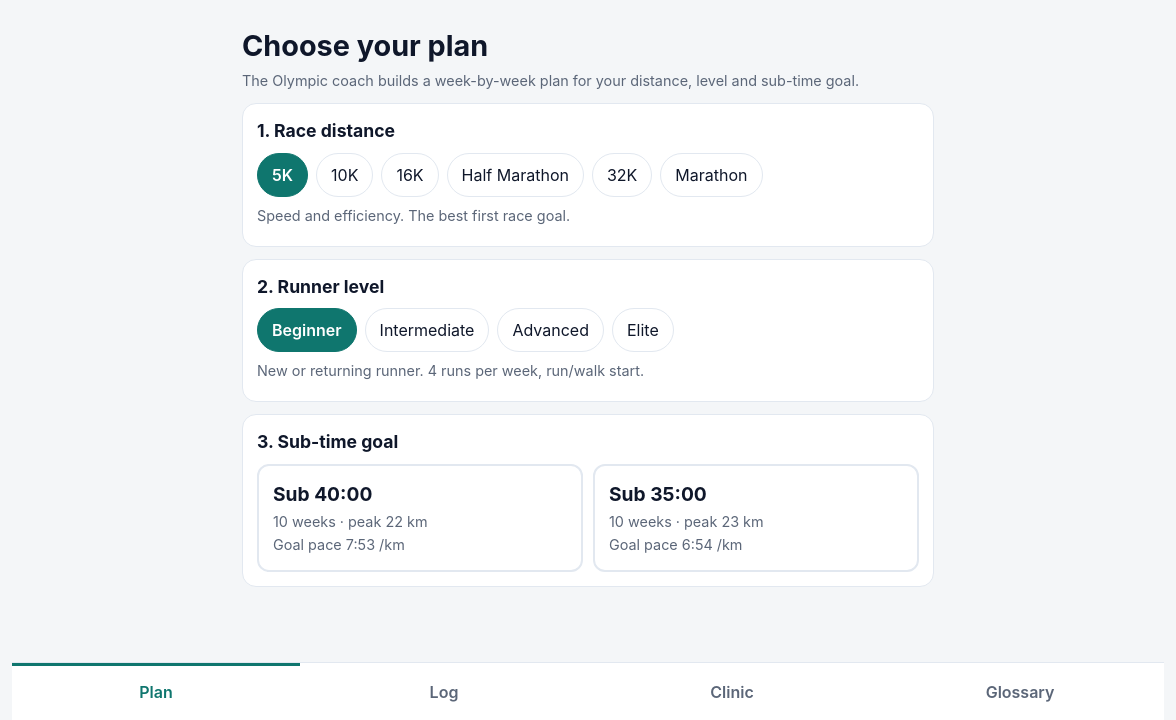
it: app flow › shows the plan picker first, then the plan overview
The width and height of the screenshot is (1176, 720).
Expected: the heading "Choose your plan" is shown, x1=242 y1=28 x2=488 y2=63
Click the radio button labelled "5K" at (282, 175), box x1=257 y1=153 x2=308 y2=197
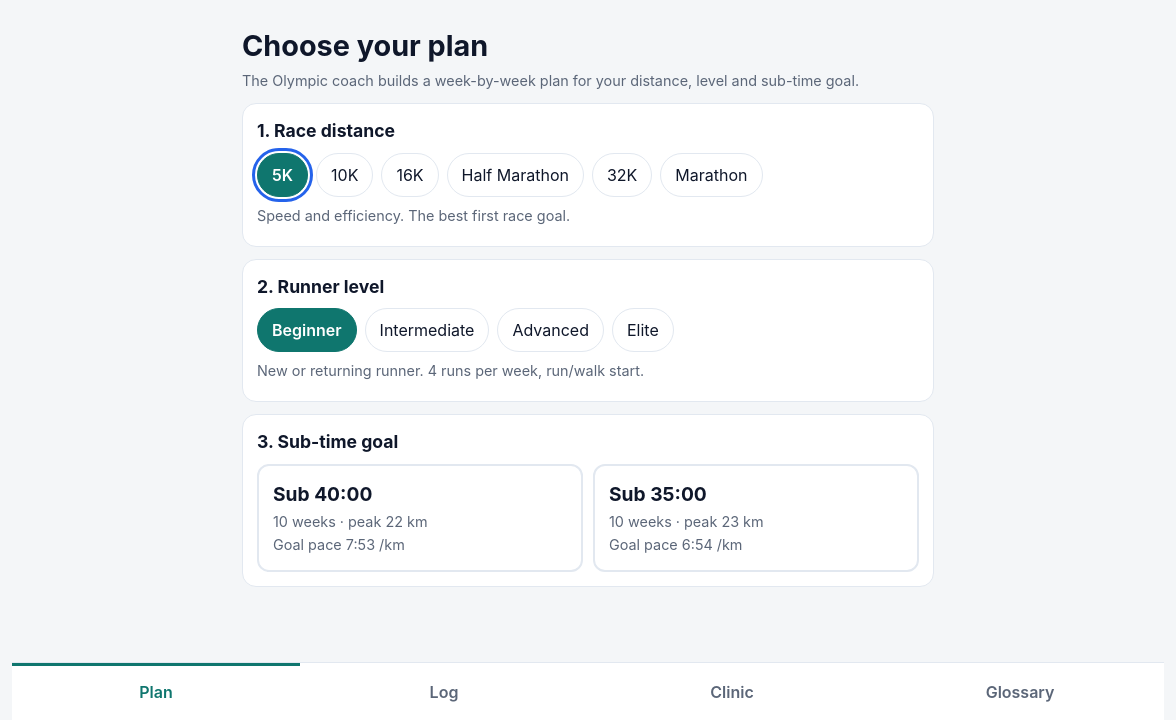
Click the radio button labelled "Beginner" at (307, 330), box x1=257 y1=308 x2=357 y2=352
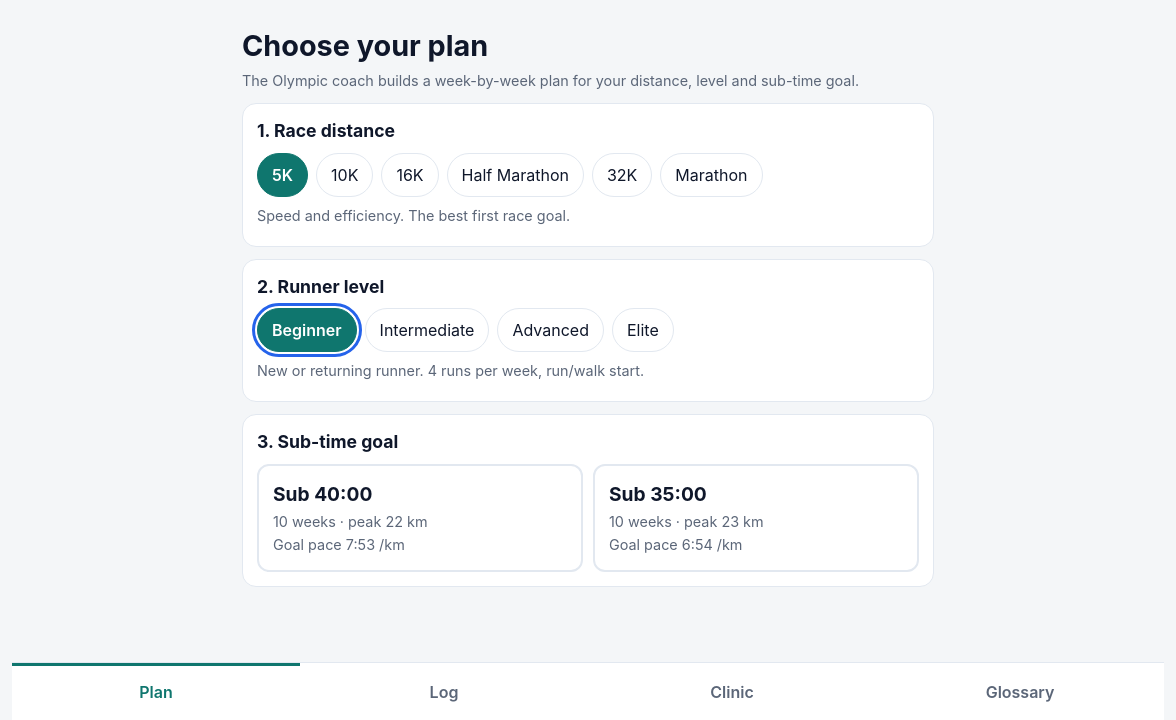
Click the button "Sub 40:00 10 weeks · peak 22 km Goal pace 7:53 /km" at (420, 518), box x1=257 y1=464 x2=583 y2=572
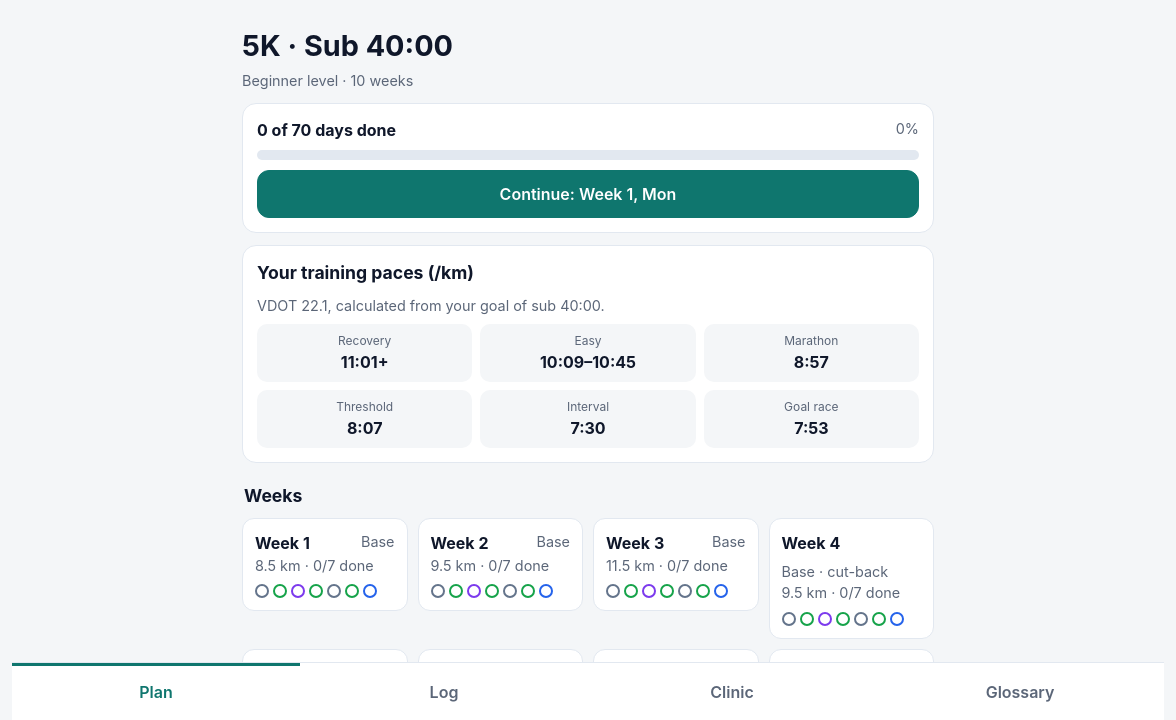
Expected: the heading "5K · Sub 40:00" is shown, x1=242 y1=28 x2=453 y2=63
